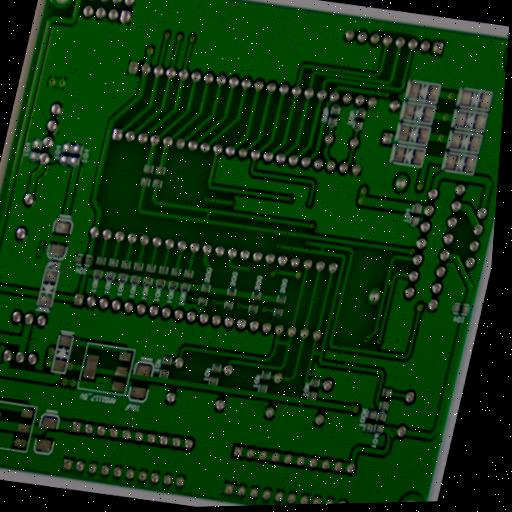short_circuit: (199, 202, 217, 227), (270, 333, 295, 351), (307, 346, 326, 363), (314, 240, 331, 258), (381, 276, 397, 290)
